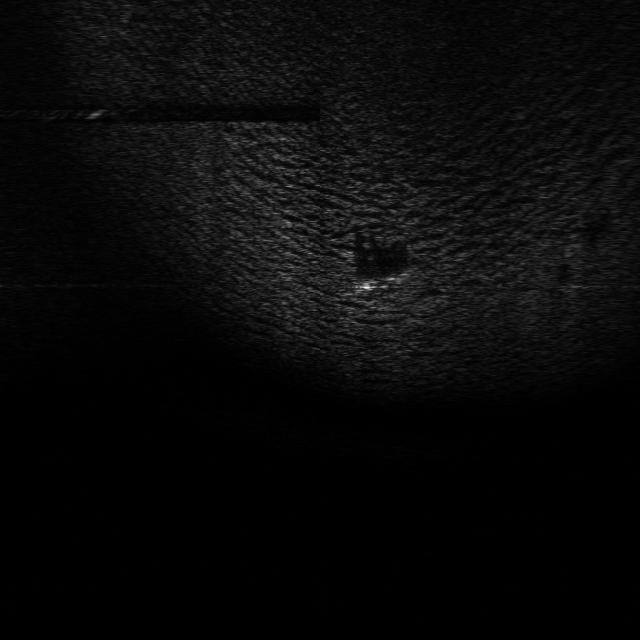plane: (347, 262, 412, 299)
